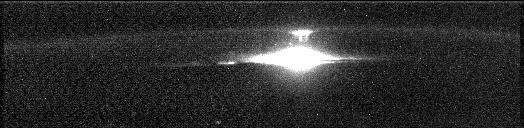negative: (287, 27, 315, 44)
